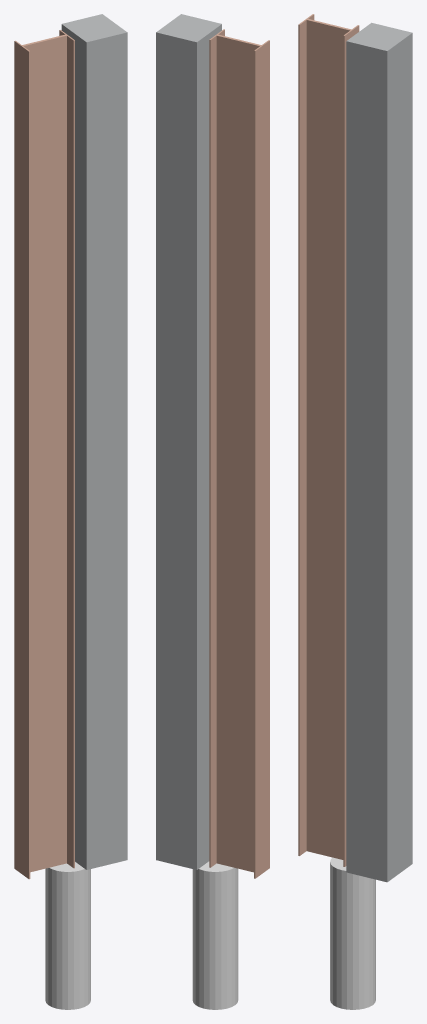
The model's file is double simple.glb.
3 views of the same model, side by side, from view 1: azimuth 30°, elevation 25°; view 2: azimuth 150°, elevation 25°; view 3: azimuth 330°, elevation 25° (orthographic).
Parts seen in each view (by area): view 1: imagetostl_mesh38, imagetostl_mesh33, imagetostl_mesh32, imagetostl_mesh41, imagetostl_mesh36, imagetostl_mesh30, imagetostl_mesh34, imagetostl_mesh26, imagetostl_mesh20, imagetostl_mesh18, imagetostl_mesh23, imagetostl_mesh19 (+6 smaller); view 2: imagetostl_mesh28, imagetostl_mesh43, imagetostl_mesh32, imagetostl_mesh41, imagetostl_mesh42, imagetostl_mesh31, imagetostl_mesh37, imagetostl_mesh26, imagetostl_mesh13, imagetostl_mesh15, imagetostl_mesh9, imagetostl_mesh11 (+6 smaller); view 3: imagetostl_mesh38, imagetostl_mesh33, imagetostl_mesh40, imagetostl_mesh29, imagetostl_mesh27, imagetostl_mesh30, imagetostl_mesh34, imagetostl_mesh26, imagetostl_mesh23, imagetostl_mesh18, imagetostl_mesh24, imagetostl_mesh21 (+4 smaller).
Boxes of the visible parts, x1,y1,x2,y2 form: imagetostl_mesh38: [86, 32, 127, 869]; imagetostl_mesh33: [24, 35, 66, 872]; imagetostl_mesh32: [14, 41, 28, 878]; imagetostl_mesh41: [61, 24, 86, 869]; imagetostl_mesh36: [67, 36, 73, 867]; imagetostl_mesh30: [29, 51, 30, 879]; imagetostl_mesh34: [73, 40, 74, 868]; imagetostl_mesh26: [62, 14, 126, 42]; imagetostl_mesh20: [56, 871, 62, 1009]; imagetostl_mesh18: [74, 870, 79, 1009]; imagetostl_mesh23: [79, 869, 84, 1008]; imagetostl_mesh19: [62, 871, 67, 1009]; imagetostl_mesh28: [156, 32, 196, 869]; imagetostl_mesh43: [216, 36, 259, 872]; imagetostl_mesh32: [255, 40, 269, 878]; imagetostl_mesh41: [197, 24, 221, 869]; imagetostl_mesh42: [210, 36, 216, 867]; imagetostl_mesh31: [254, 50, 255, 878]; imagetostl_mesh37: [209, 40, 210, 867]; imagetostl_mesh26: [156, 14, 221, 42]; imagetostl_mesh13: [209, 871, 215, 1009]; imagetostl_mesh15: [215, 871, 221, 1009]; imagetostl_mesh9: [221, 870, 226, 1009]; imagetostl_mesh11: [204, 870, 209, 1009]; imagetostl_mesh38: [346, 41, 387, 882]; imagetostl_mesh33: [306, 20, 349, 859]; imagetostl_mesh40: [387, 33, 412, 881]; imagetostl_mesh29: [299, 20, 306, 855]; imagetostl_mesh27: [344, 25, 359, 866]; imagetostl_mesh30: [298, 24, 299, 855]; imagetostl_mesh34: [343, 35, 344, 866]; imagetostl_mesh26: [346, 22, 411, 50]; imagetostl_mesh23: [341, 870, 346, 1009]; imagetostl_mesh18: [336, 869, 341, 1008]; imagetostl_mesh24: [347, 872, 352, 1009]; imagetostl_mesh21: [353, 874, 358, 1009].
Bounding box in the file's own units: 0.5591 × 5.51 × 0.2598.
